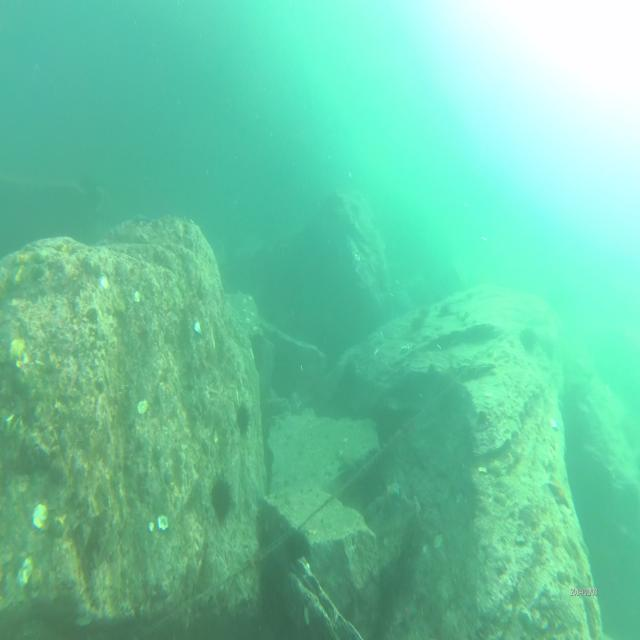echinus: (520, 322, 537, 355), (341, 355, 357, 384)
starfish: (210, 468, 233, 524), (233, 398, 252, 440)
